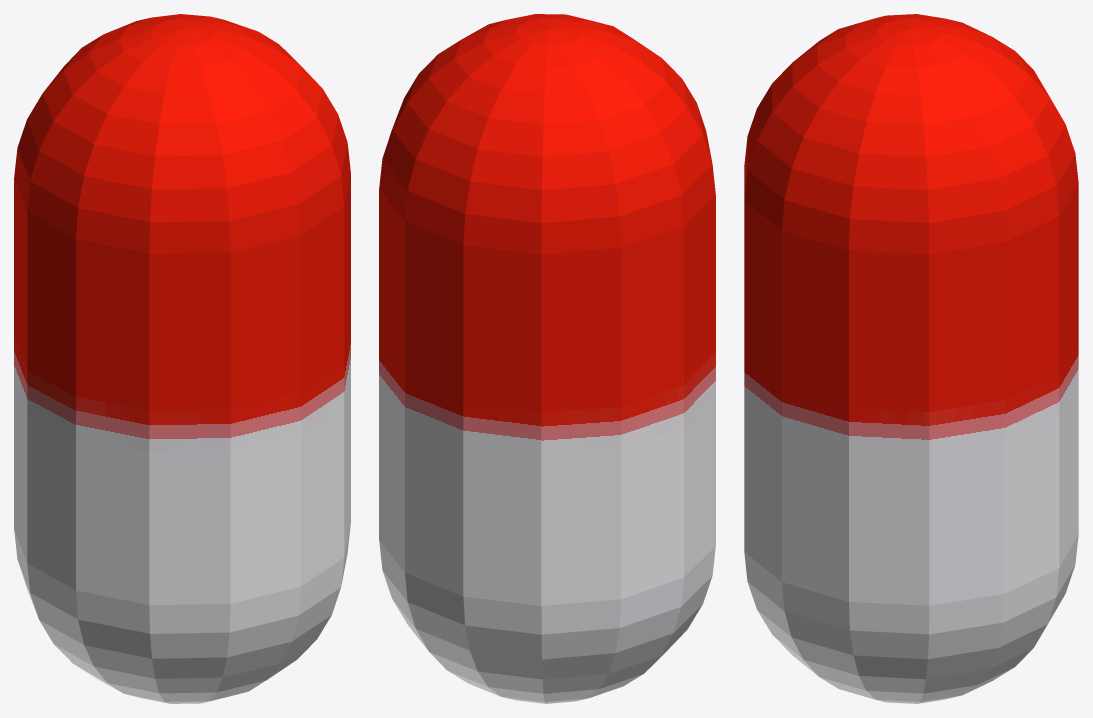
File: pill_pellet.fbx
The picture shows the model from 3 angles, left to right: view 1: azimuth 30°, elevation 25°; view 2: azimuth 150°, elevation 25°; view 3: azimuth 270°, elevation 25°; orthographic projection.
Parts seen in each view (by area): view 1: Sphere.001; view 2: Sphere.001; view 3: Sphere.001.
Boxes of the visible parts, x1=… form: Sphere.001: x1=14, y1=14, x2=350, y2=703; Sphere.001: x1=379, y1=14, x2=715, y2=703; Sphere.001: x1=744, y1=14, x2=1078, y2=703.
Size of the model in its own units: 133 by 287 by 132.
1 material, 1 textured.
